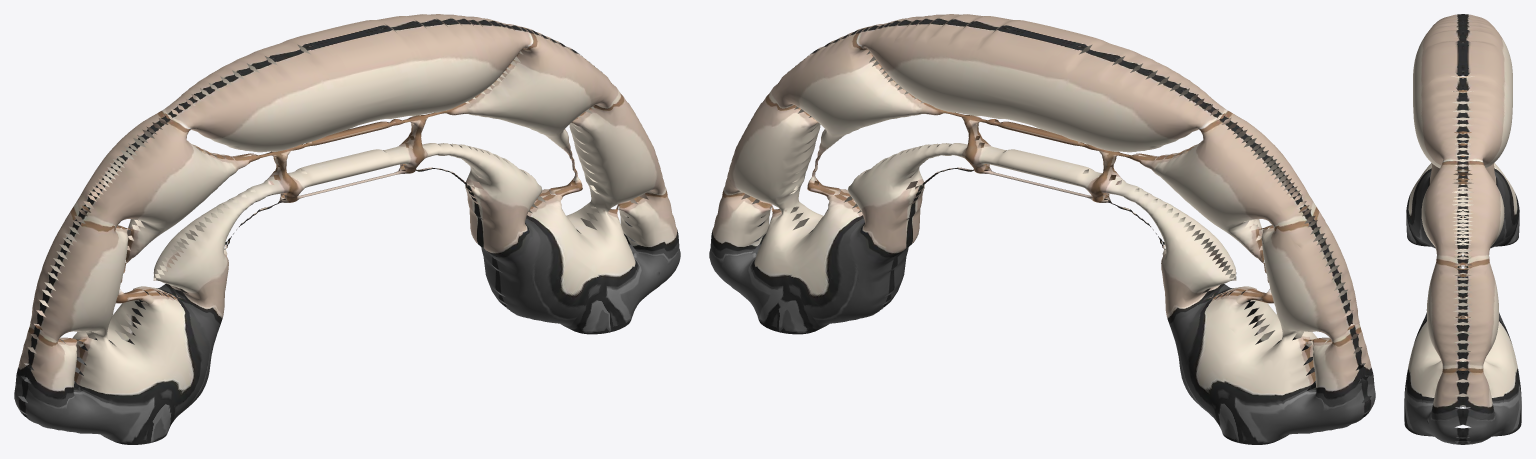
Rendered from command_arch.glb.
3 views of the same model, side by side, from view 1: azimuth 30°, elevation 25°; view 2: azimuth 150°, elevation 25°; view 3: azimuth 270°, elevation 25° (orthographic). The views are drawn at different scales.
Visible parts, largest first — view 1: command_arch; view 2: command_arch; view 3: command_arch.
Boxes of the visible parts, box(x1,y1,x2,y2) form: command_arch: box(14, 14, 680, 444); command_arch: box(709, 14, 1375, 444); command_arch: box(1404, 14, 1521, 444).
Size of the model in its own units: 0.989 by 0.4716 by 0.1845.
1 material, 1 textured.
